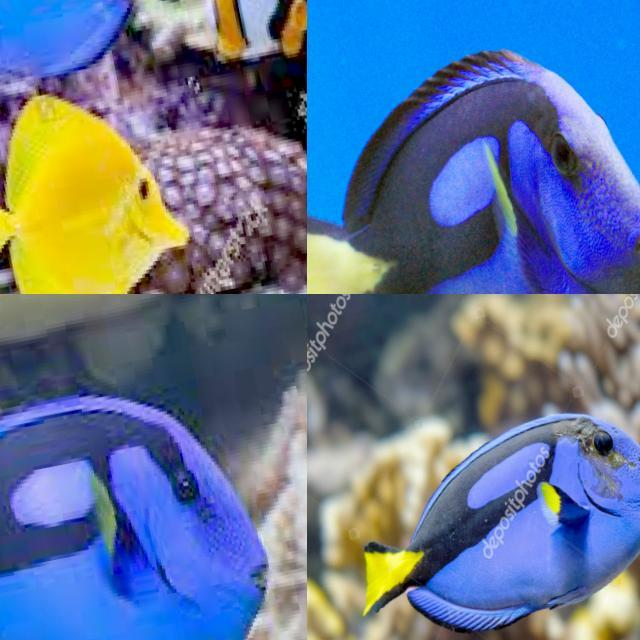BlueTang: (307, 0, 640, 294), (0, 326, 306, 640), (317, 370, 640, 640), (0, 0, 207, 125)
